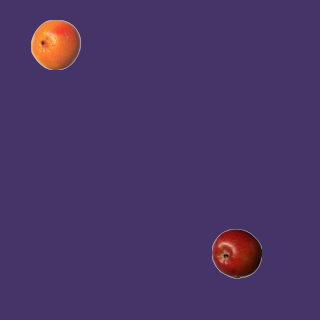Apple Braeburn: (211, 228, 261, 278)
Grapefruit Pink: (30, 19, 80, 69)
